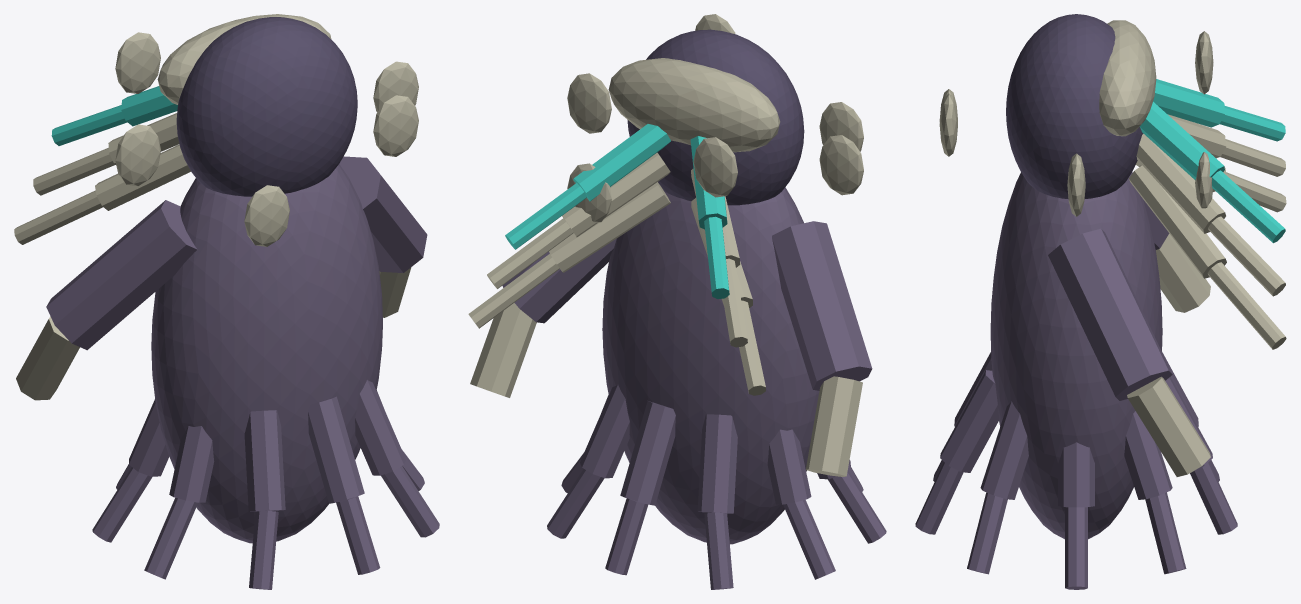
Rendered from abyss-librarian.glb.
3 views of the same model, side by side, from view 1: azimuth 30°, elevation 25°; view 2: azimuth 150°, elevation 25°; view 3: azimuth 270°, elevation 25° (orthographic). The views are drawn at different scales.
Parts seen in each view (by area): view 1: world; view 2: world; view 3: world.
Boxes of the visible parts, x1,y1,x2,y2 form: world: (14,14,439,589); world: (468,14,886,589); world: (915,14,1286,589).
Bounding box in the file's own units: 1.42 × 1.84 × 1.21.
